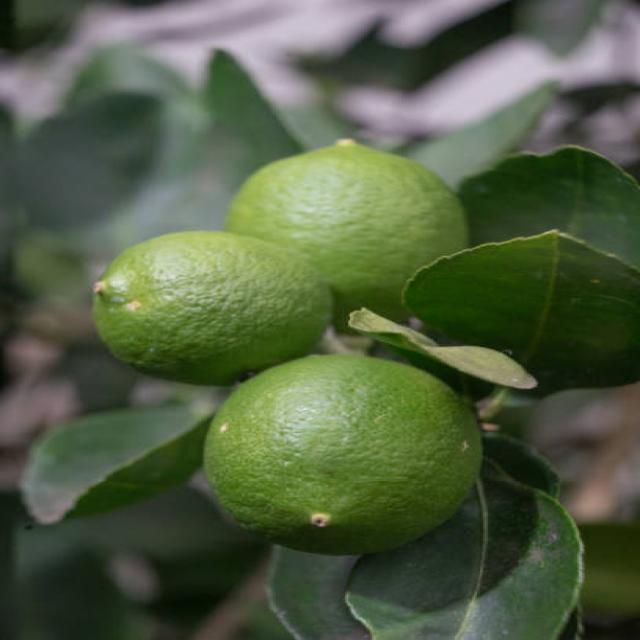Unripe: (200, 353, 482, 557), (90, 230, 337, 382)
